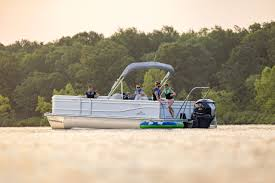boat: (50, 62, 218, 133)
